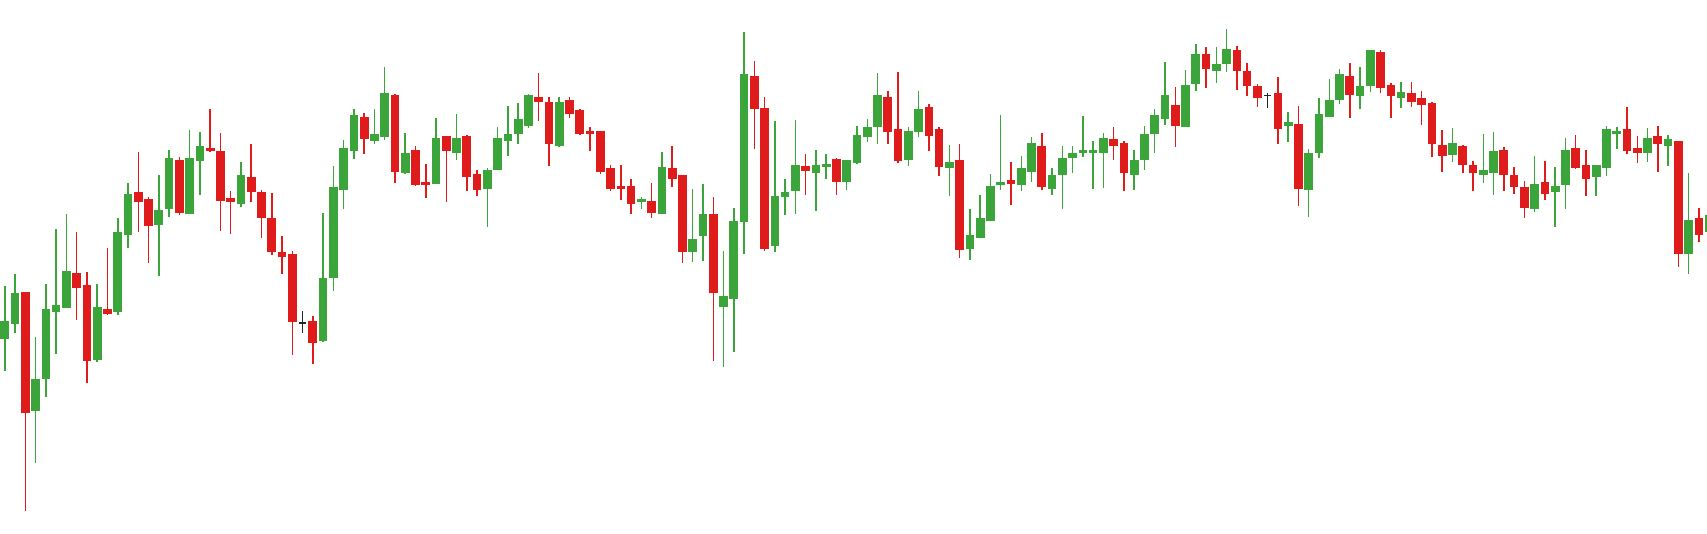sell: (535, 32, 761, 190)
